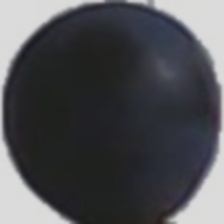grapes: (31, 58, 216, 209)
